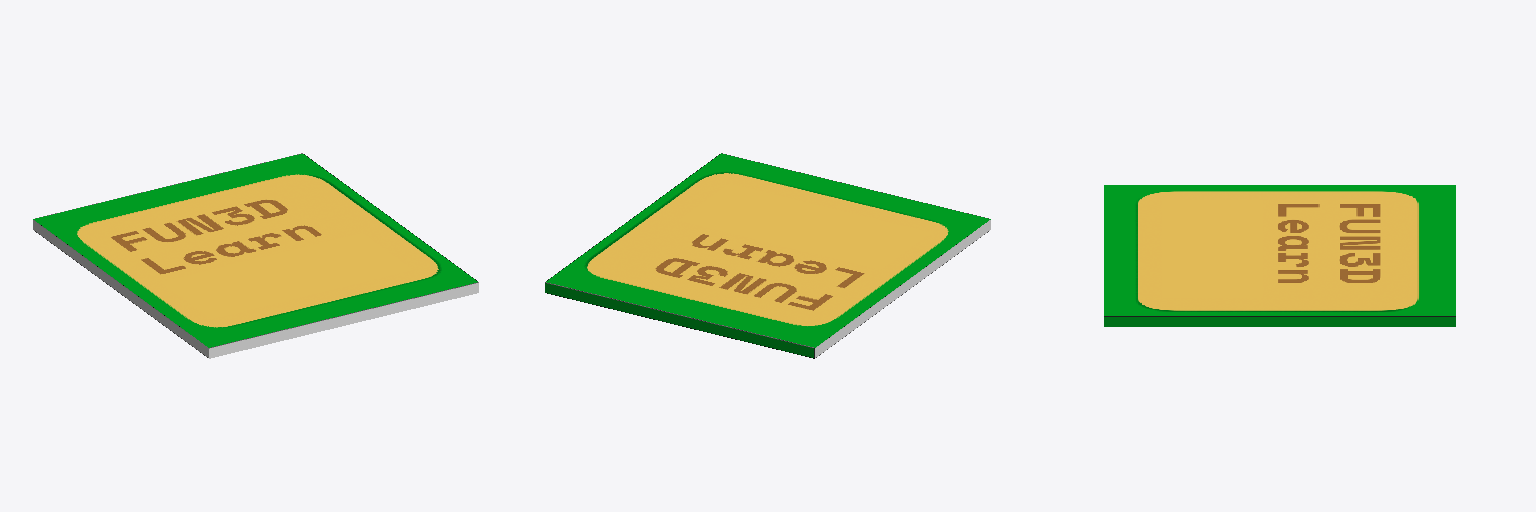
The picture shows the model from 3 angles: view 1: azimuth 30°, elevation 25°; view 2: azimuth 150°, elevation 25°; view 3: azimuth 270°, elevation 25°; orthographic projection.
Visible parts, largest first — view 1: floor; view 2: floor; view 3: floor.
Boxes of the visible parts, x1,y1,x2,y2 form: floor: [33, 153, 478, 358]; floor: [545, 153, 990, 358]; floor: [1104, 185, 1455, 326].
Bounding box in the file's own units: 7.96 × 0.3031 × 9.
Materials: 1 (1 with a texture image).